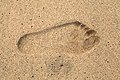human_footprint: (17, 21, 99, 54)
